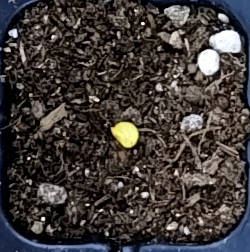pepper seed: (40, 47, 181, 196)
